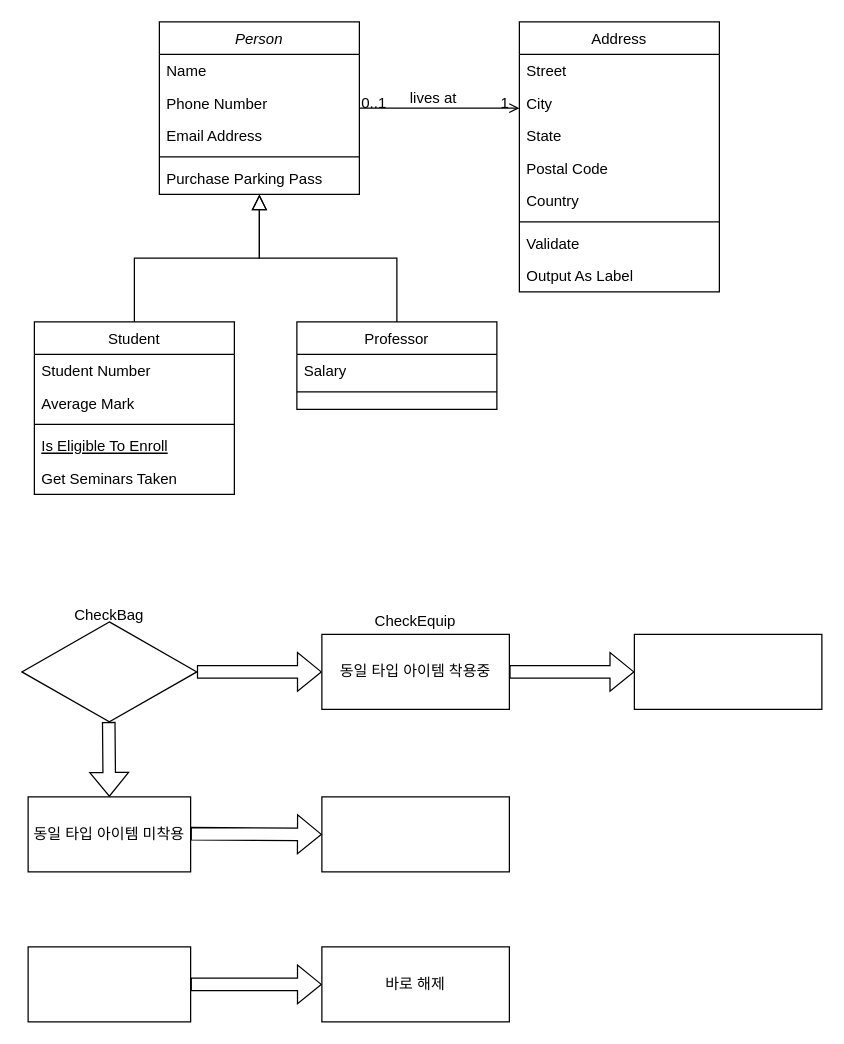
Image size: 844x1044. Some labels were removed from this diagram. Each missing label, with the centre of its shape:
"바로 착용" belongs at point 415,834.
"장비를 착용하는 경우" belongs at point 109,671.
"장비를 해제하는 경우" belongs at point 109,984.
"착용중인 아이템을 해제하고 아이템 착용" belongs at point 727,671.
